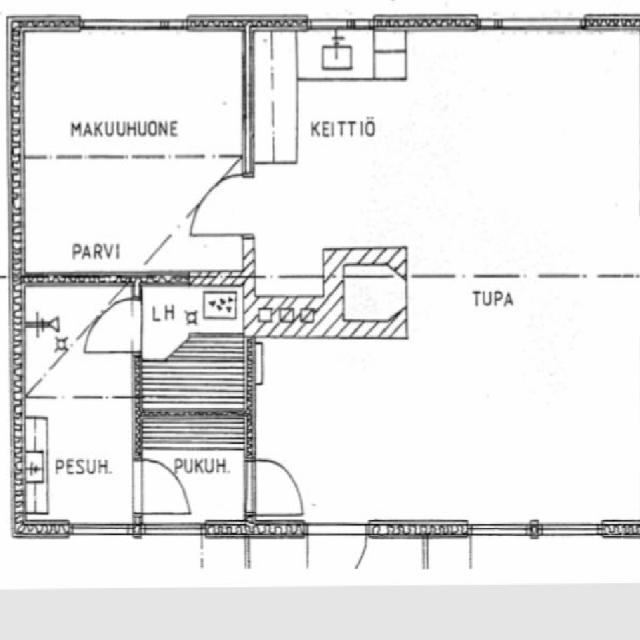door: (306, 521, 366, 606), (192, 175, 253, 235), (244, 460, 300, 514), (87, 300, 142, 351), (132, 462, 187, 512)
